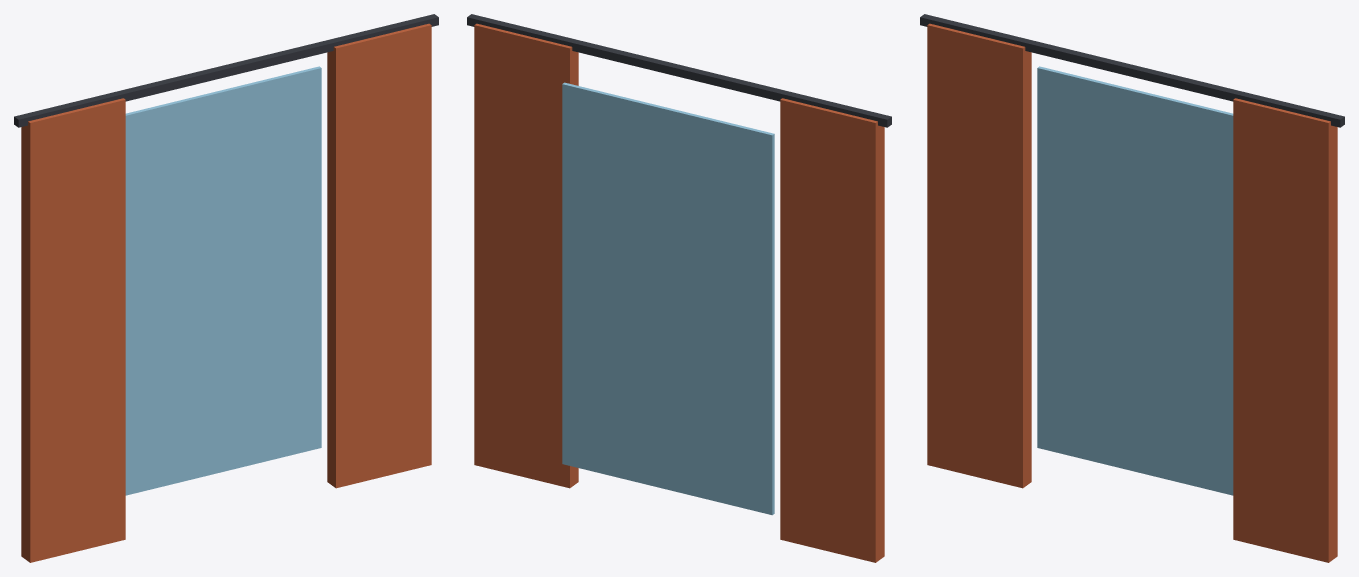
The model's file is curtains.glb.
The picture shows the model from 3 angles, left to right: view 1: azimuth 30°, elevation 25°; view 2: azimuth 150°, elevation 25°; view 3: azimuth 330°, elevation 25°; orthographic projection.
Visible parts, largest first — view 1: curtains; view 2: curtains; view 3: curtains.
Part boxes in pixels (bbox=[...]): curtains: bbox=[14, 14, 438, 562]; curtains: bbox=[467, 14, 891, 562]; curtains: bbox=[920, 14, 1344, 562].
Bounding box in the file's own units: 2.2 × 2.22 × 0.15.
